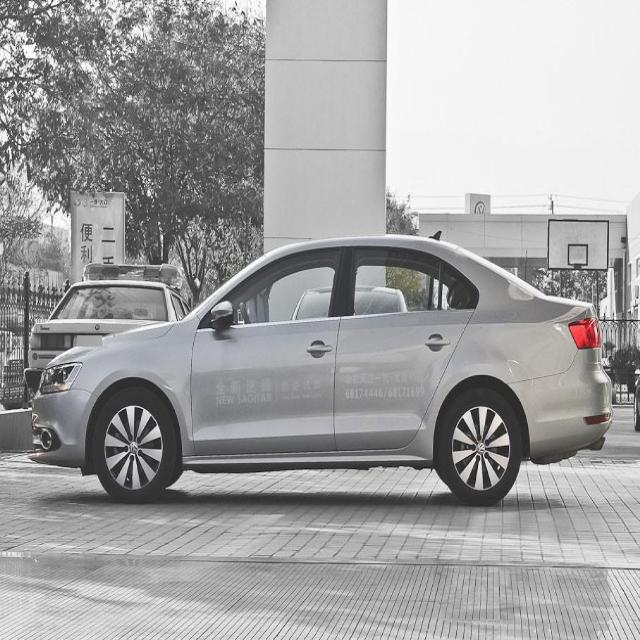back_left_side_light: (567, 315, 603, 351)
door: (341, 243, 481, 456)
front_bumper: (30, 386, 100, 472)
front_left_side_door: (189, 241, 351, 459)
front_left_side_light: (37, 359, 84, 398)
front_left_side_mirror: (207, 299, 234, 331)
rear_bumper: (506, 345, 616, 467)
wheel: (442, 389, 522, 505), (95, 384, 174, 501)
